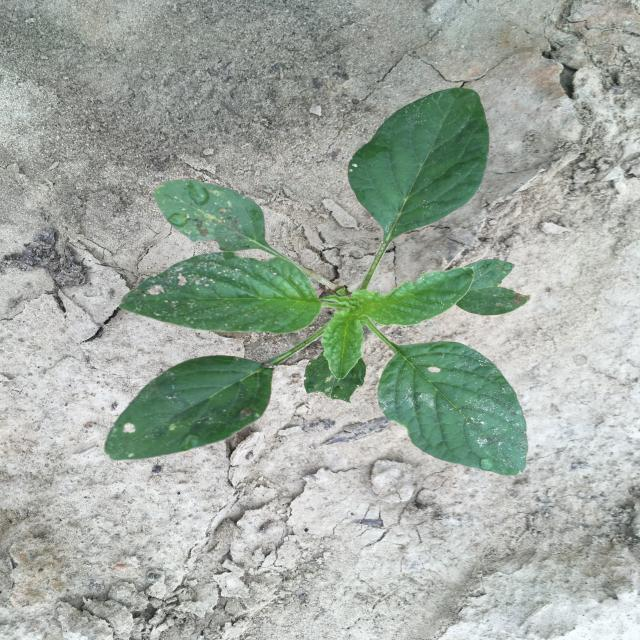PalmerAmaranth: (104, 87, 530, 475)
